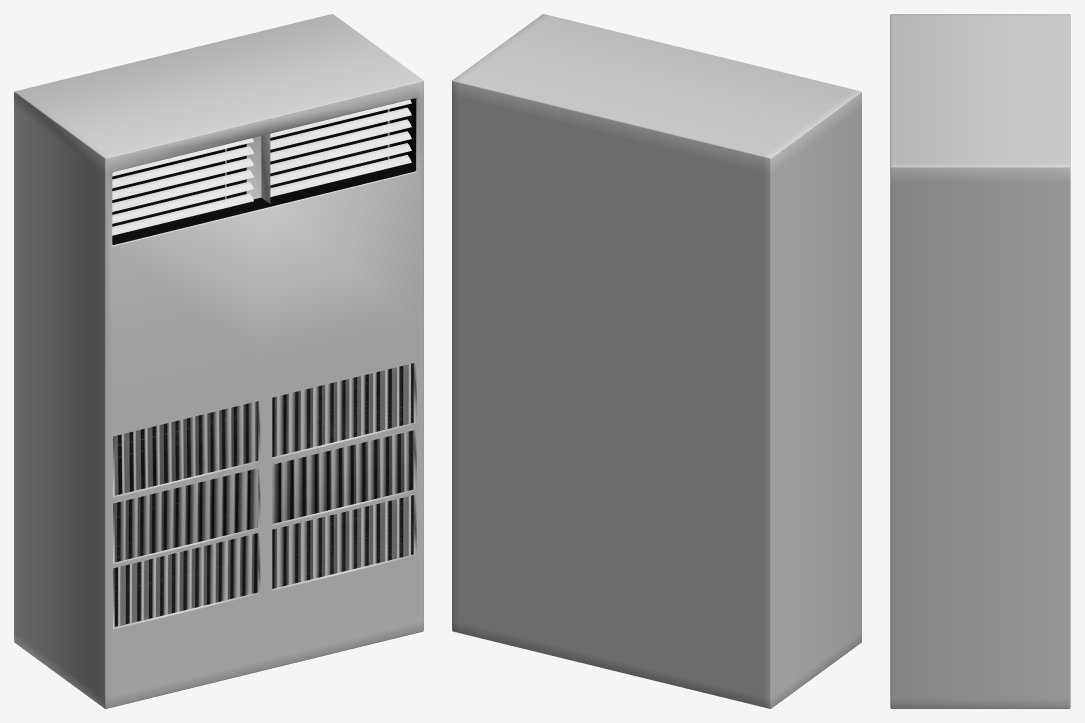
The model's file is 20ton_AC.gltf.
3 views of the same model, side by side, from view 1: azimuth 30°, elevation 25°; view 2: azimuth 150°, elevation 25°; view 3: azimuth 270°, elevation 25° (orthographic).
Visible parts, largest first — view 1: Cube.003, pngtree-texture-of-an-air-conditioner-s-radiator-grille-ima. (×4), pngtree-texture-of-an-air-conditioner-s-radiator-grille-imag, pngtree-texture-of-an-air-conditioner-s-radiator-grille-ima, Cube.017, Cube.018, Cube.016; view 2: Cube.003; view 3: Cube.003.
Part boxes in pixels (x1,y1,x2,y2): Cube.003: (14, 14, 423, 708); pngtree-texture-of-an-air-conditioner-s-radiator-grille-ima. (×4): (114, 363, 413, 562); pngtree-texture-of-an-air-conditioner-s-radiator-grille-imag: (114, 533, 258, 627); pngtree-texture-of-an-air-conditioner-s-radiator-grille-ima: (272, 495, 413, 588); Cube.017: (112, 138, 253, 235); Cube.018: (270, 99, 411, 196); Cube.016: (246, 134, 270, 203); Cube.003: (452, 14, 861, 708); Cube.003: (890, 14, 1070, 708).
Bounding box in the file's own units: 14.9 × 24.6 × 7.4.
Materials: 4 (1 with a texture image).
